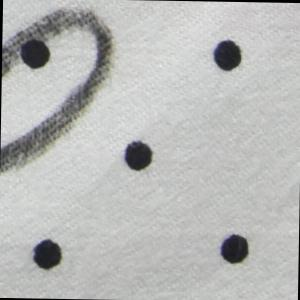Stain: (1, 4, 118, 177)
